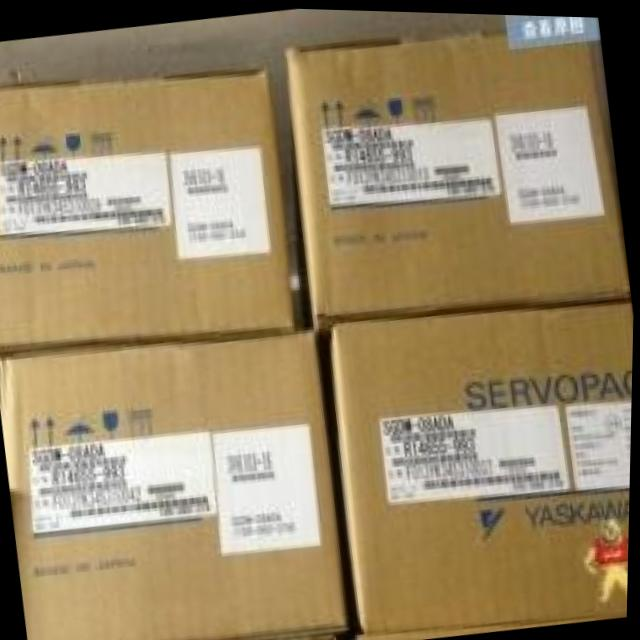box: (0, 328, 352, 640), (284, 20, 633, 329), (332, 299, 635, 633), (0, 63, 297, 356), (249, 630, 340, 640)
